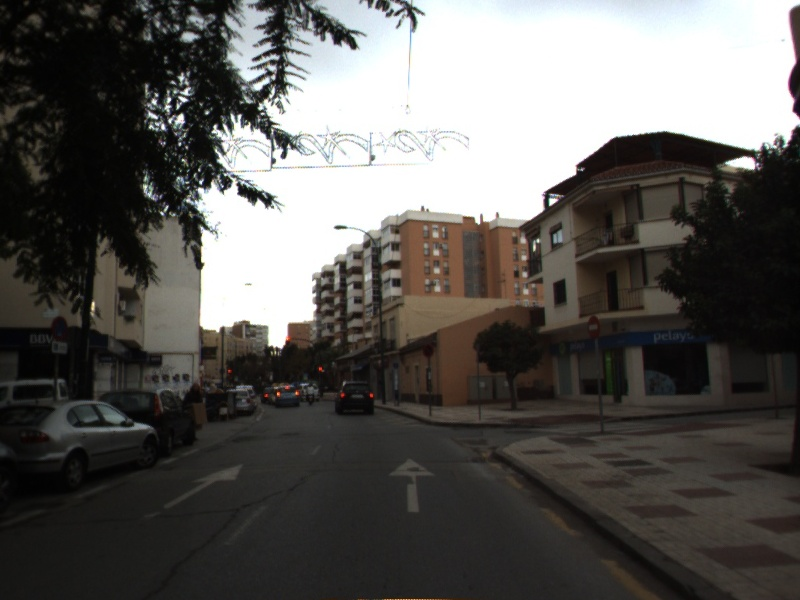STRAIGHT: (160, 461, 247, 511), (386, 456, 438, 515)
